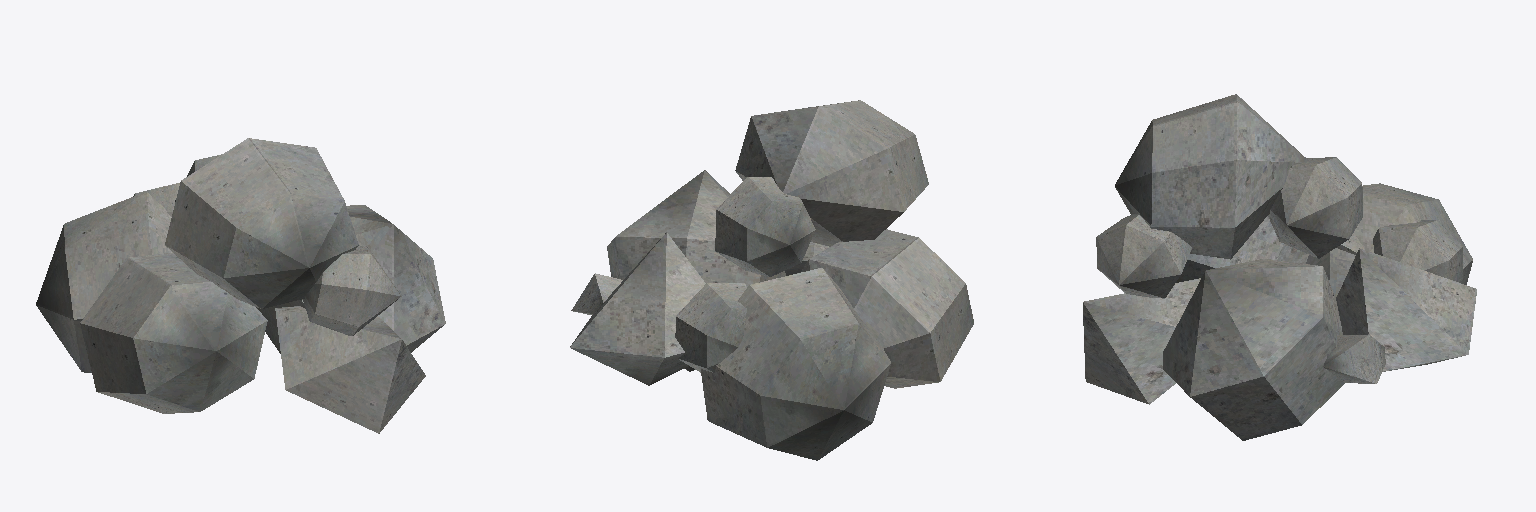
3 renders of one model, left to right at view 1: azimuth 30°, elevation 25°; view 2: azimuth 150°, elevation 25°; view 3: azimuth 270°, elevation 25°, orthographic.
Parts seen in each view (by area): view 1: Sphere011; view 2: Sphere011; view 3: Sphere011.
Boxes of the visible parts, box(x1,y1,x2,y2) form: Sphere011: box(36, 138, 445, 433); Sphere011: box(570, 100, 973, 460); Sphere011: box(1083, 94, 1476, 440).
Size of the model in its own units: 96.96 by 77.2 by 98.02.
1 materials, 1 textured.